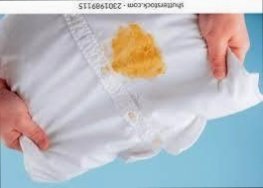mustard: (110, 25, 165, 78)
